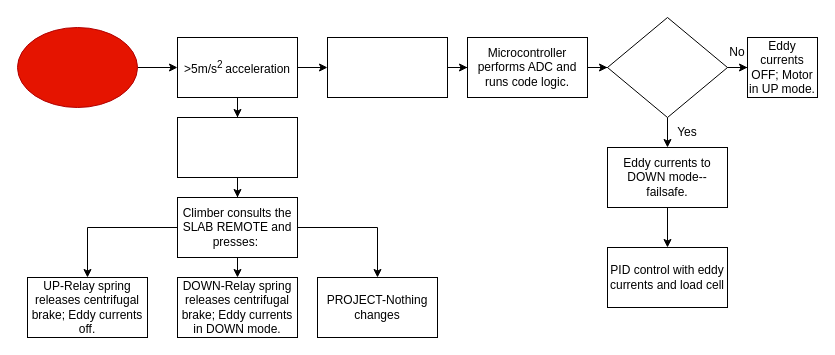
This 835x355 diagram has some shape labels left out. The centre of each missing label's shape, as x and y in pixels:
"Accelerometer on spool sends acceleration data to microcontroller." belongs at pixel 387 67.
"Centrifugal brake applied, stopping climber." belongs at pixel 237 147.
"Climber Falls" belongs at pixel 77 67.
"Is climber falling? (a>5m/s^2)" belongs at pixel 667 67.
